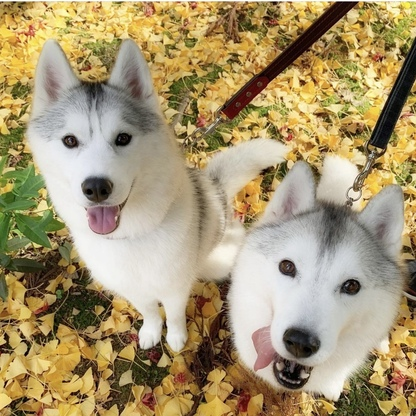husky: (21, 36, 222, 355), (225, 149, 411, 407)
